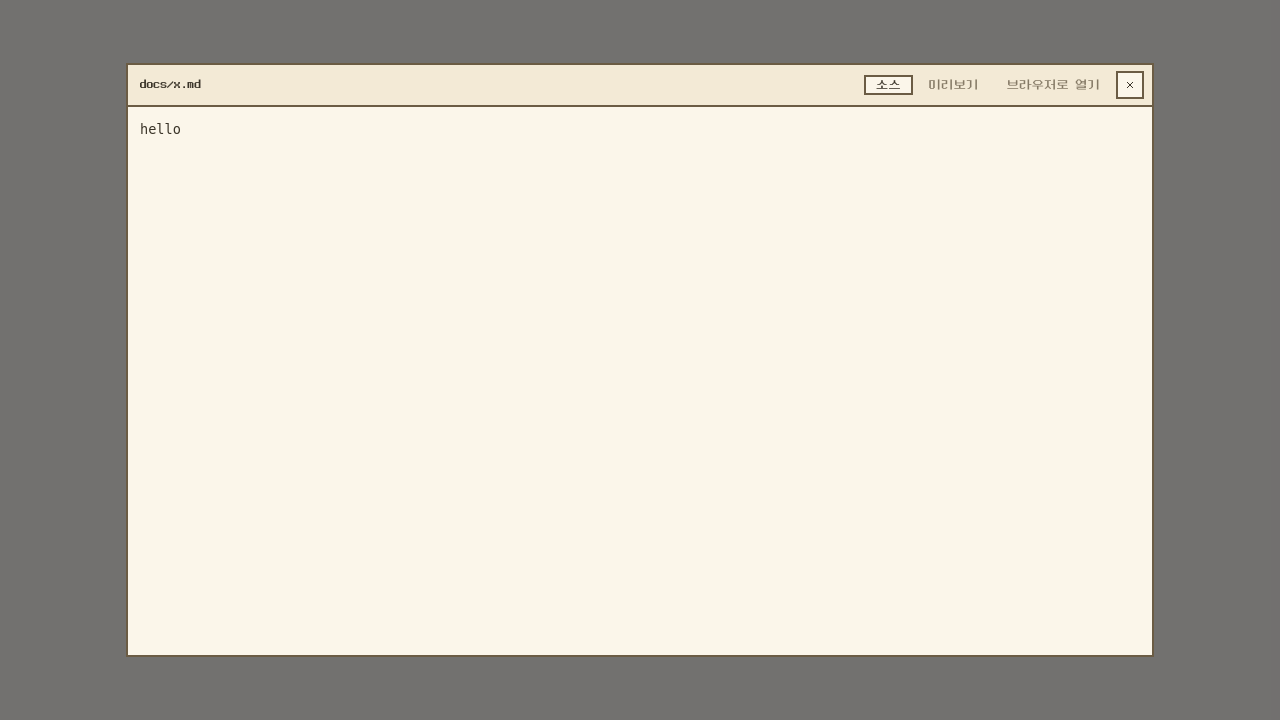
MarkdownEditorOverlay › 더티면 Esc가 확인 다이얼로그를 띄운다(닫지 않음)
Note: 내용 변경 → 더티
Replace the text in the text box with "hello world" at (640, 381), box [128,107,1152,655]
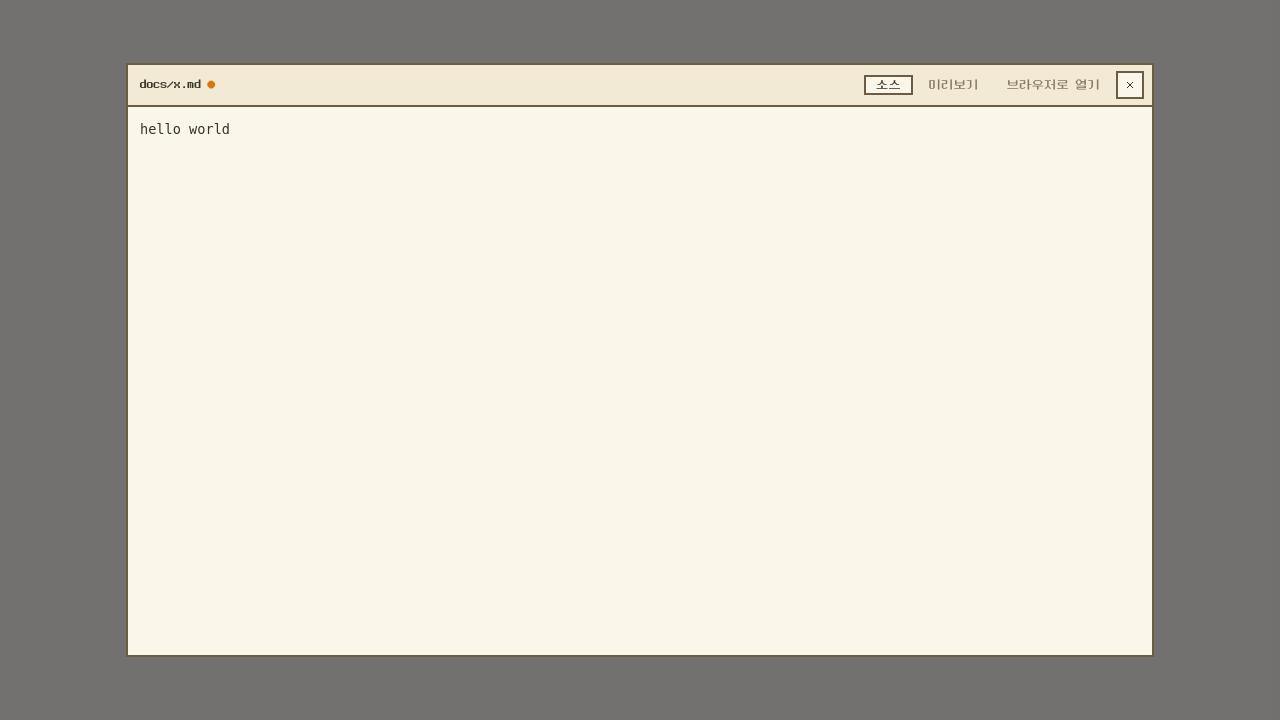
Press Escape in the text box
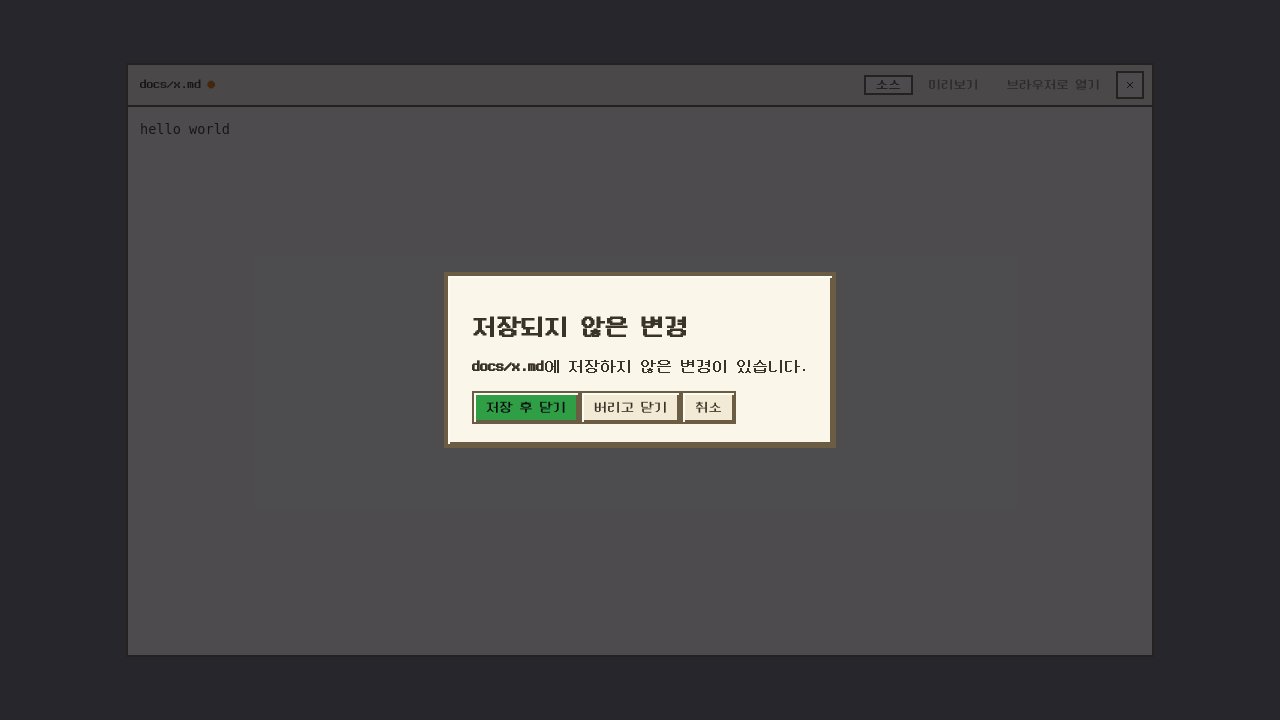
Check: the heading "저장되지 않은 변경" is shown, box [472,316,688,340]
